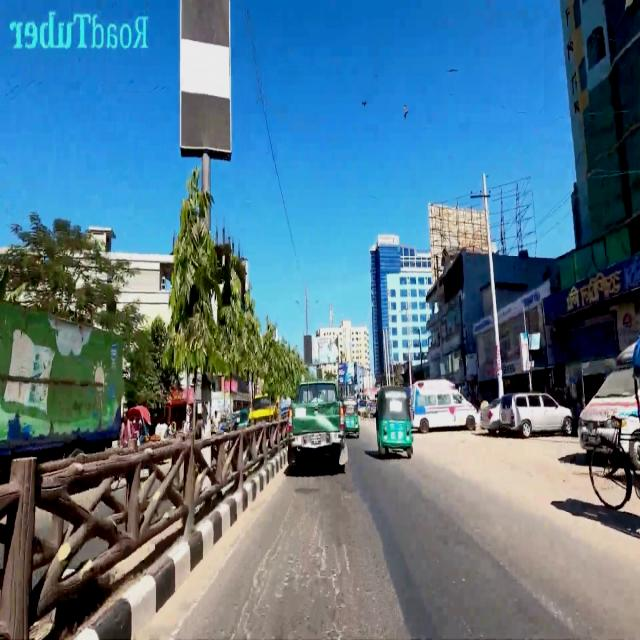white: (498, 391, 575, 440), (481, 398, 496, 436)
